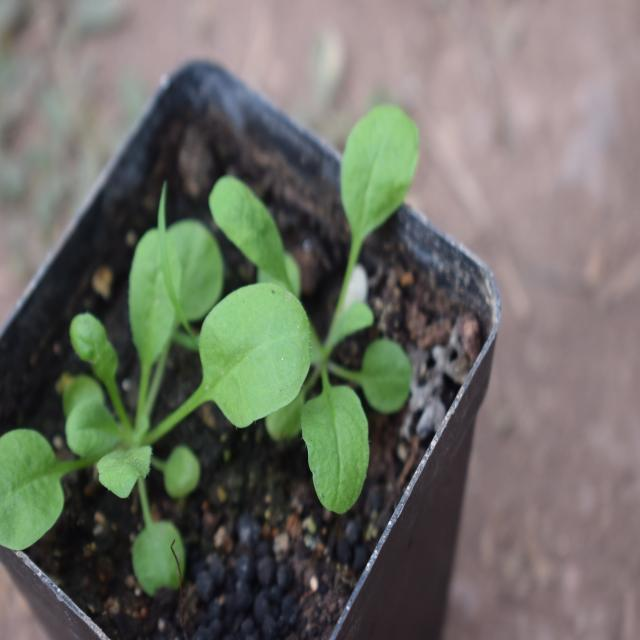Shepherd_Purse: (0, 245, 291, 550), (215, 94, 421, 502)
